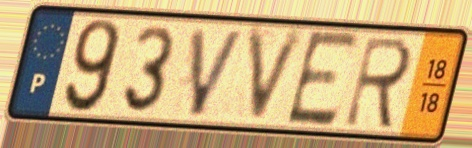3: (119, 24, 178, 115)
9: (62, 16, 122, 116)
E: (282, 27, 365, 131)
R: (340, 33, 417, 133)
V: (244, 23, 311, 130), (186, 25, 249, 120)
